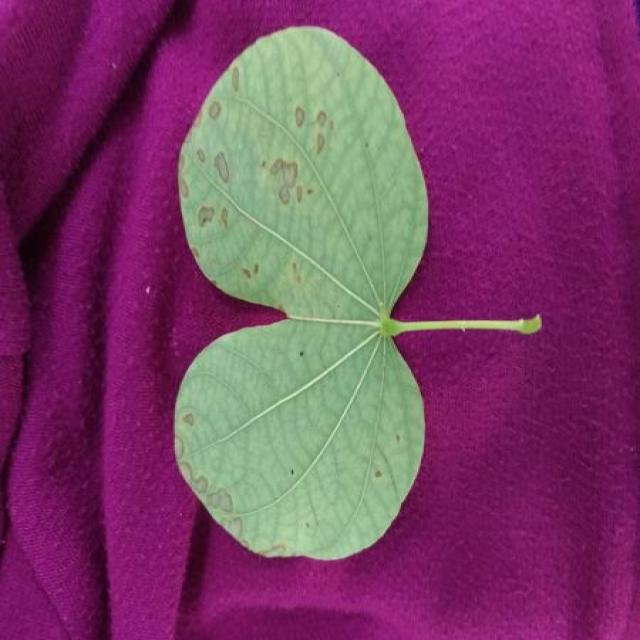Kambajala: (175, 28, 540, 558)
